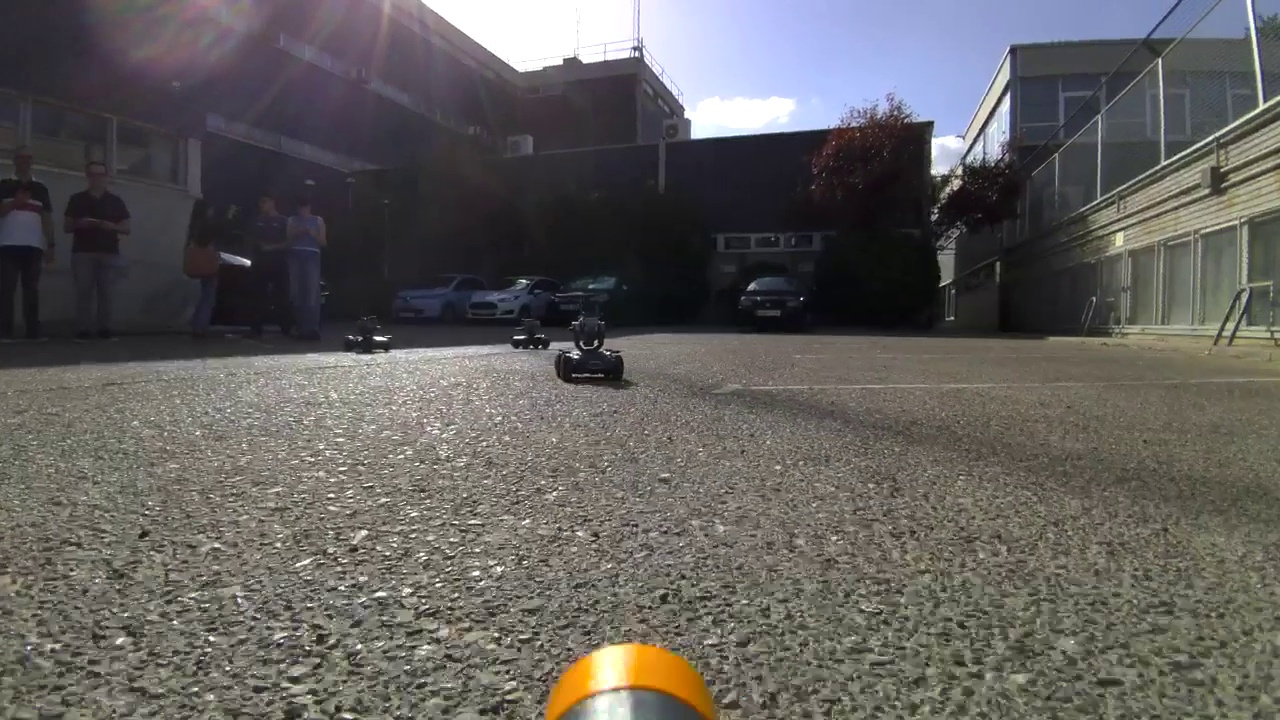robot: (555, 307, 622, 384), (344, 304, 395, 357), (503, 307, 548, 356)
